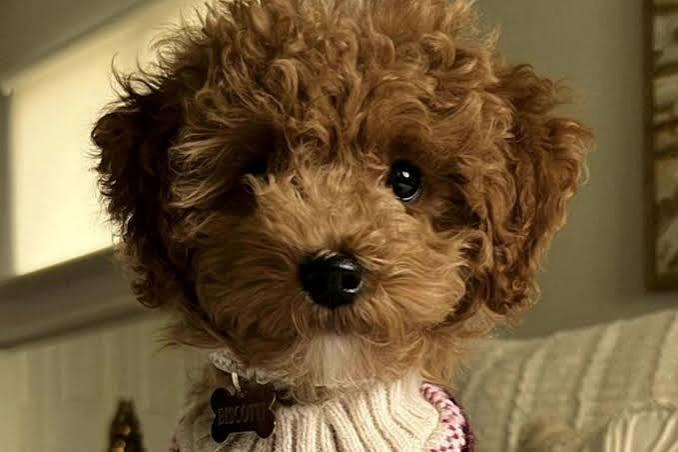puppy-dog: (88, 1, 595, 452)
